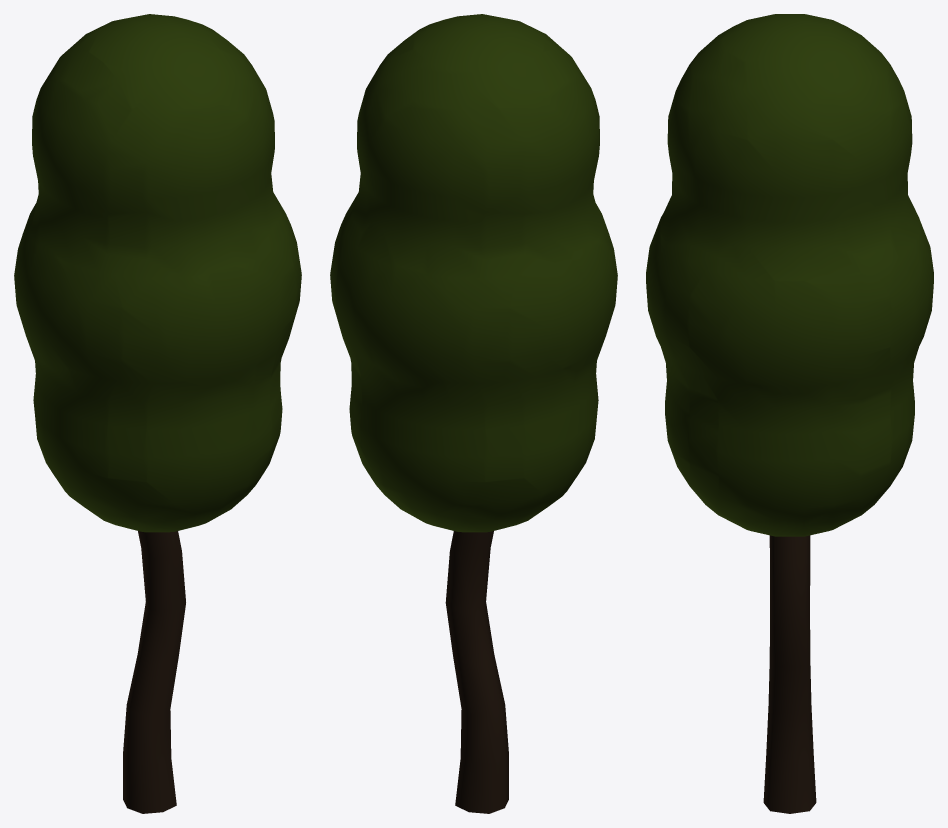
File: Tree_2.obj
3 views of the same model, side by side, from view 1: azimuth 30°, elevation 25°; view 2: azimuth 150°, elevation 25°; view 3: azimuth 270°, elevation 25° (orthographic).
Parts seen in each view (by area): view 1: Tree_2_Cube.044; view 2: Tree_2_Cube.044; view 3: Tree_2_Cube.044.
Boxes of the visible parts, bbox=[...] form: Tree_2_Cube.044: bbox=[14, 14, 301, 813]; Tree_2_Cube.044: bbox=[330, 14, 617, 813]; Tree_2_Cube.044: bbox=[646, 14, 933, 813].
Size of the model in its own units: 2.08 by 6.22 by 2.08.
